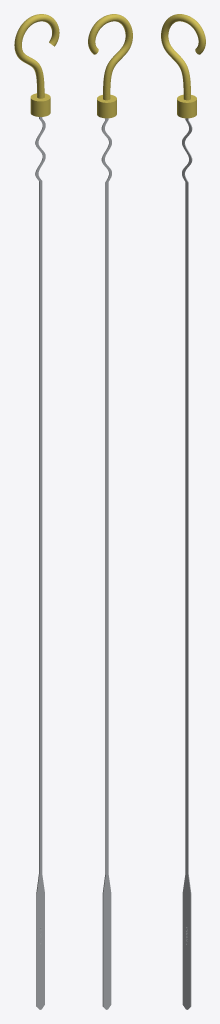
File: engine-oil-dipstick.glb
3 views of the same model, side by side, from view 1: azimuth 30°, elevation 25°; view 2: azimuth 210°, elevation 25°; view 3: azimuth 330°, elevation 25° (orthographic).
Visible parts, largest first — view 1: engine-oil-dipstick-blade, engine-oil-dipstick-handle; view 2: engine-oil-dipstick-blade, engine-oil-dipstick-handle; view 3: engine-oil-dipstick-blade, engine-oil-dipstick-handle.
Part boxes in pixels (x1,y1,x2,y2): engine-oil-dipstick-blade: (35, 117, 45, 1009); engine-oil-dipstick-handle: (14, 14, 59, 116); engine-oil-dipstick-blade: (101, 118, 111, 1009); engine-oil-dipstick-handle: (88, 14, 132, 118); engine-oil-dipstick-blade: (182, 118, 192, 1009); engine-oil-dipstick-handle: (161, 14, 205, 118).
Size of the model in its own units: 0.0356 by 0.7678 by 0.014.
